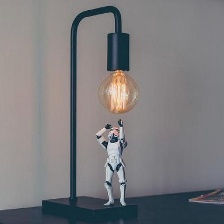light_bulb: (94, 66, 142, 118)
